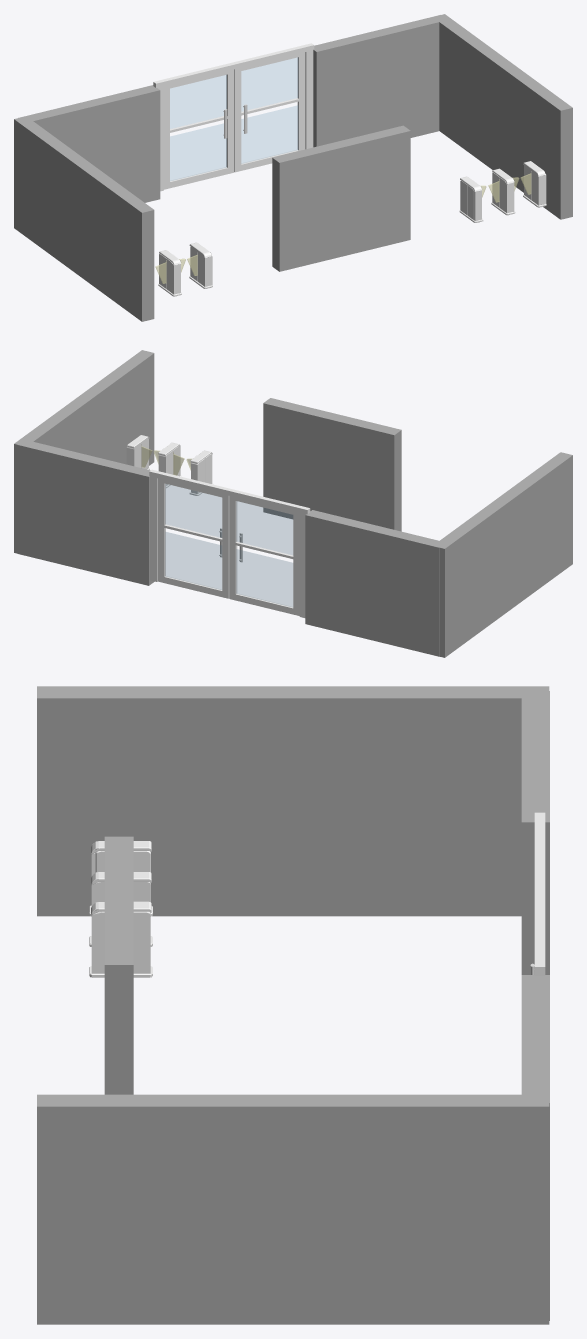
File: 鲸鱼馆大厅.fbx_前门.fbx
3 renders of one model, top to bottom at view 1: azimuth 30°, elevation 25°; view 2: azimuth 150°, elevation 25°; view 3: azimuth 270°, elevation 25°, orthographic. The views are drawn at different scales.
Visible parts, largest first — view 1: 立方体.003, 立方体.002, 立方体.004, 立方体, 立方体.001, 闸机, Mesh_16, Mesh_26.001, Mesh_15, Mesh_25, 闸机.001, DoorFrame_Top (+7 smaller); view 2: 立方体.003, 立方体.001, 立方体, 立方体.002, 立方体.004, Mesh_16, Mesh_26.001, Mesh_15, Mesh_25, 闸机, DoorFrame_Top, DoorFrame_Right (+7 smaller); view 3: 立方体.004, 立方体.003, 立方体.002, 立方体.001, 闸机.001, 立方体, DoorFrame_Top.
Part boxes in pixels (left/top/right/bottom): 立方体.003: left=14, top=118, right=154, bottom=321; 立方体.002: left=272, top=125, right=410, bottom=271; 立方体.004: left=434, top=14, right=572, bottom=219; 立方体: left=313, top=15, right=447, bottom=147; 立方体.001: left=19, top=85, right=160, bottom=202; 闸机: left=459, top=161, right=546, bottom=222; Mesh_16: left=170, top=123, right=226, bottom=180; Mesh_26.001: left=241, top=105, right=297, bottom=163; Mesh_15: left=170, top=75, right=226, bottom=128; Mesh_25: left=241, top=57, right=297, bottom=111; 闸机.001: left=155, top=242, right=212, bottom=296; DoorFrame_Top: left=153, top=45, right=314, bottom=87; 立方体.003: left=440, top=452, right=572, bottom=657; 立方体.001: left=305, top=510, right=446, bottom=656; 立方体: left=17, top=440, right=154, bottom=585; 立方体.002: left=263, top=398, right=401, bottom=531; 立方体.004: left=14, top=350, right=154, bottom=553; Mesh_16: left=236, top=549, right=292, bottom=607; Mesh_26.001: left=165, top=532, right=221, bottom=589; Mesh_15: left=236, top=501, right=292, bottom=554; Mesh_25: left=165, top=484, right=221, bottom=537; 闸机: left=126, top=435, right=213, bottom=495; DoorFrame_Top: left=157, top=471, right=302, bottom=512; DoorFrame_Right: left=149, top=469, right=159, bottom=581; 立方体.004: left=37, top=1094, right=549, bottom=1324; 立方体.003: left=37, top=686, right=549, bottom=916; 立方体.002: left=104, top=836, right=133, bottom=1094; 立方体.001: left=521, top=691, right=549, bottom=974; 闸机.001: left=89, top=841, right=152, bottom=977; 立方体: left=521, top=975, right=549, bottom=1320; DoorFrame_Top: left=534, top=820, right=545, bottom=975.
Size of the model in its own units: 2067 by 520 by 1066.
